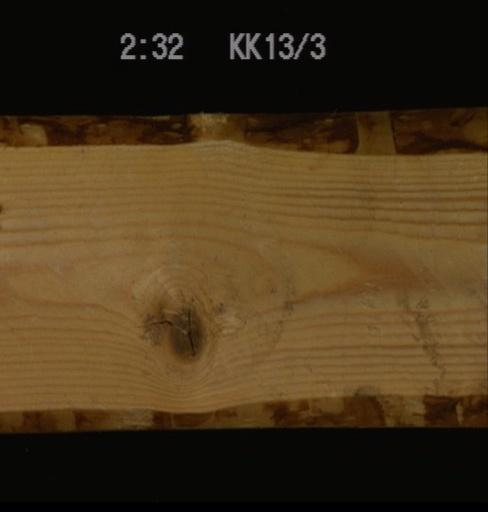sound_knot: (163, 298, 209, 360)
split: (126, 309, 187, 335)
wave: (0, 106, 486, 159), (0, 387, 486, 432)
